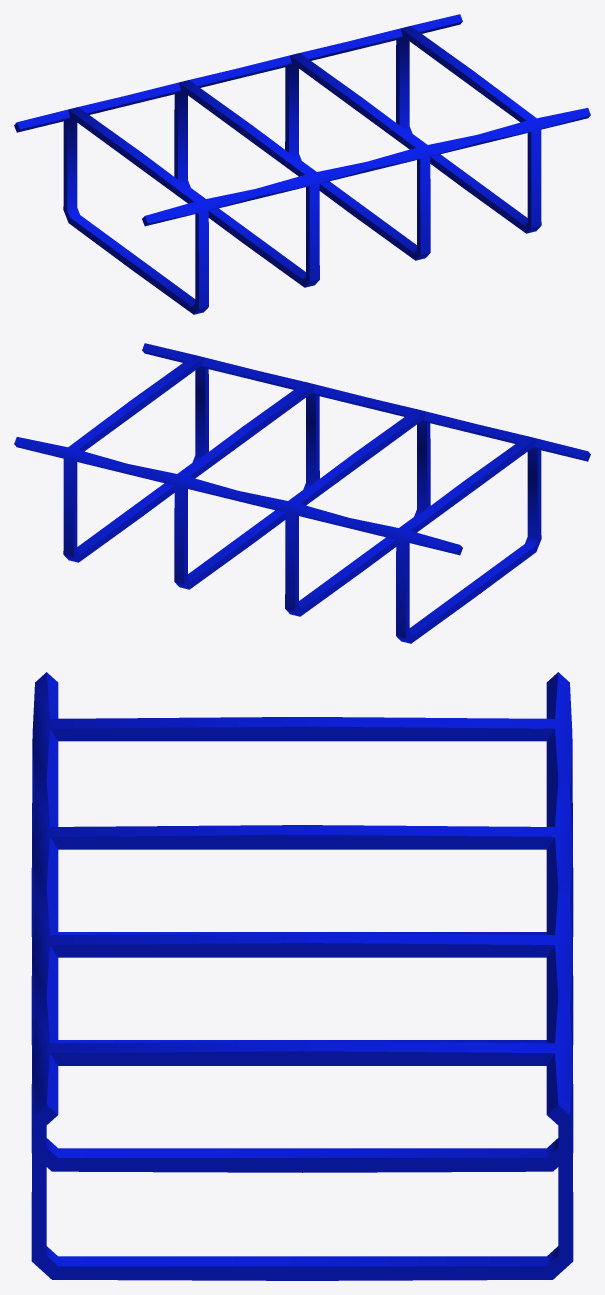
Rendered from Dark_Frame.1.fbx.
The picture shows the model from 3 angles, top to bottom: view 1: azimuth 30°, elevation 25°; view 2: azimuth 150°, elevation 25°; view 3: azimuth 270°, elevation 25°; orthographic projection. The views are drawn at different scales.
Visible parts, largest first — view 1: Frame_01.001; view 2: Frame_01.001; view 3: Frame_01.001.
Boxes of the visible parts, bbox=[...] form: Frame_01.001: bbox=[14, 14, 590, 314]; Frame_01.001: bbox=[14, 343, 590, 643]; Frame_01.001: bbox=[31, 672, 573, 1280].
Bounding box in the file's own units: 1760 × 436 × 932.
